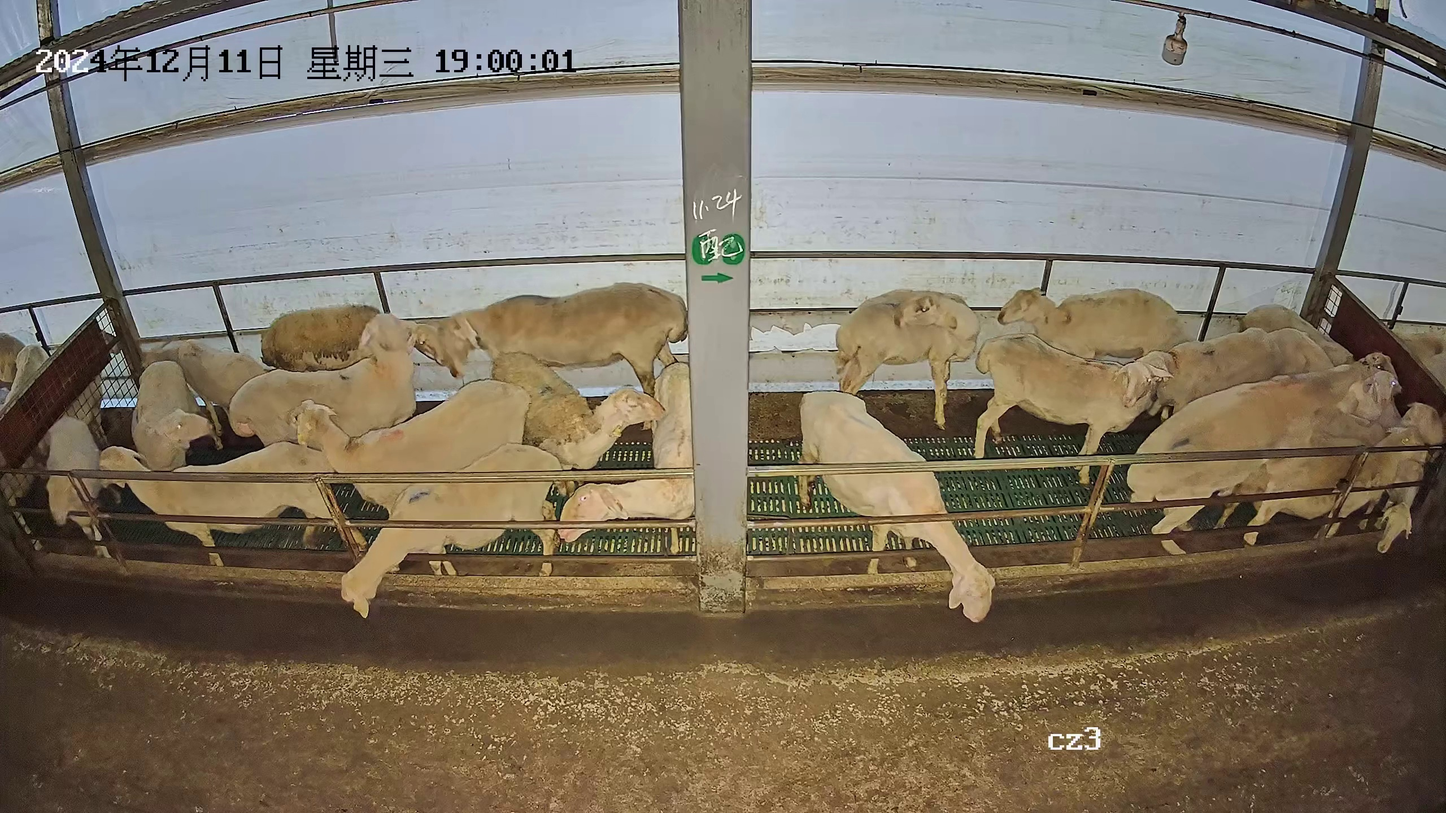Smounting: (1124, 359, 1431, 556)
mounted: (1212, 427, 1428, 544)
